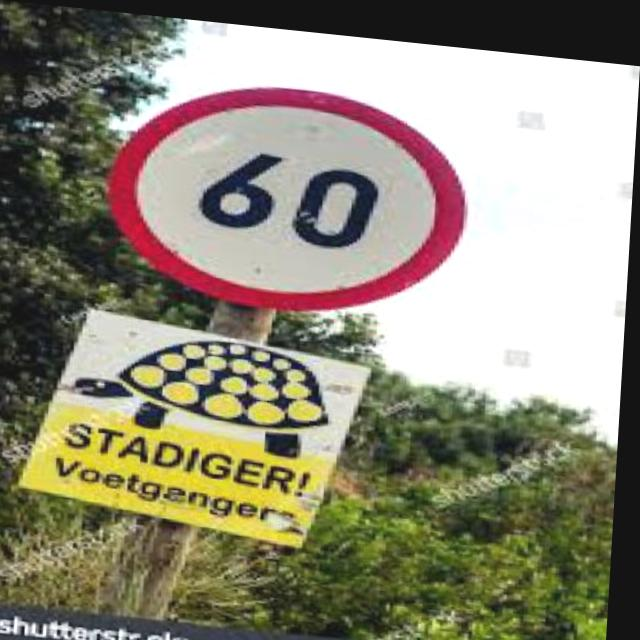limit60: (103, 63, 479, 322)
